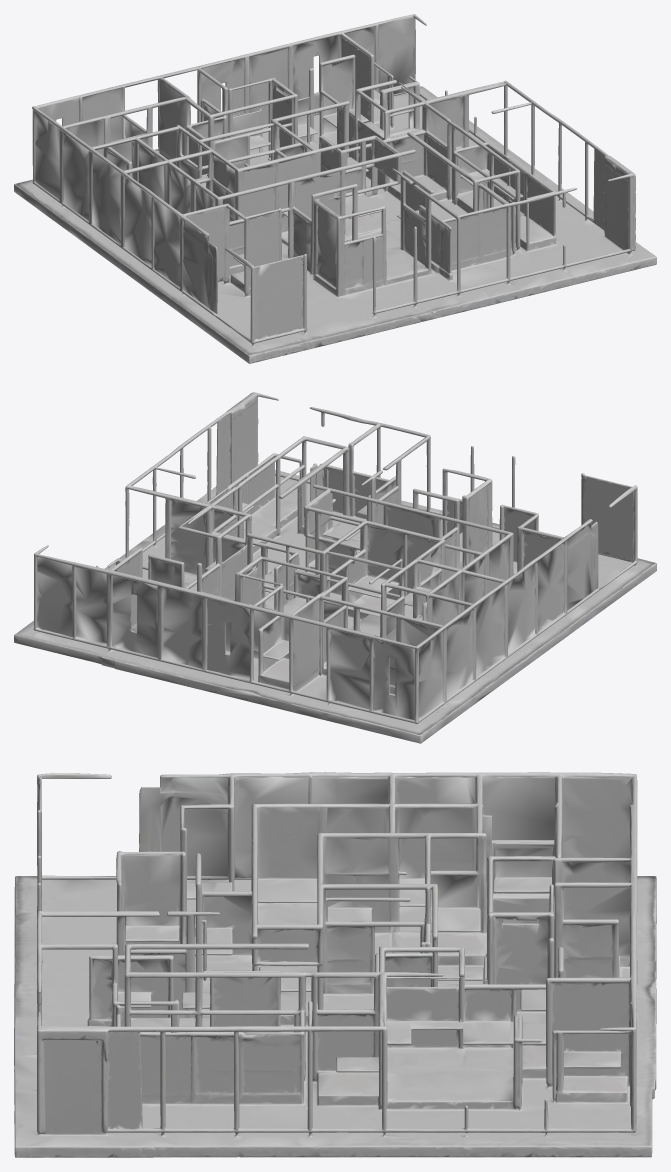
3 views of the same model, one above another, from view 1: azimuth 30°, elevation 25°; view 2: azimuth 150°, elevation 25°; view 3: azimuth 270°, elevation 25° (orthographic). The views are drawn at different scales.
Parts seen in each view (by area): view 1: tripo_node_3cd7bc67-6cc1-4ada-9339-a24d1767af68; view 2: tripo_node_3cd7bc67-6cc1-4ada-9339-a24d1767af68; view 3: tripo_node_3cd7bc67-6cc1-4ada-9339-a24d1767af68.
Boxes of the visible parts, x1,y1,x2,y2 form: tripo_node_3cd7bc67-6cc1-4ada-9339-a24d1767af68: (14, 14, 656, 363); tripo_node_3cd7bc67-6cc1-4ada-9339-a24d1767af68: (14, 392, 656, 743); tripo_node_3cd7bc67-6cc1-4ada-9339-a24d1767af68: (14, 772, 656, 1157).
Size of the model in its own units: 0.9791 by 0.2067 by 0.9798.
Materials: 1 (1 with a texture image).
